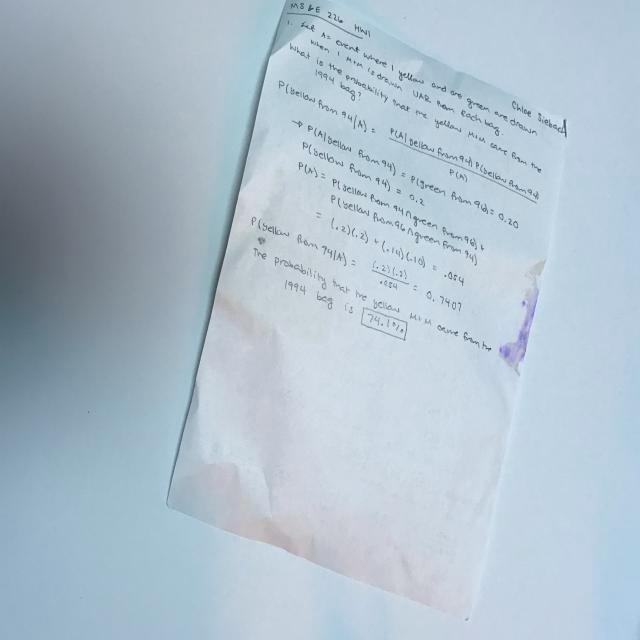paper: (162, 1, 588, 640)
